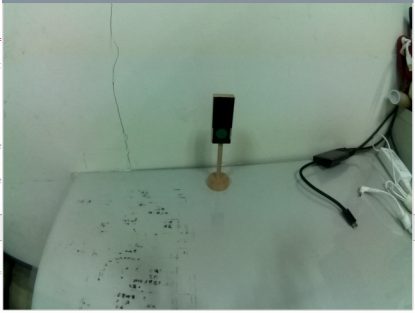Green: (210, 94, 235, 152)
